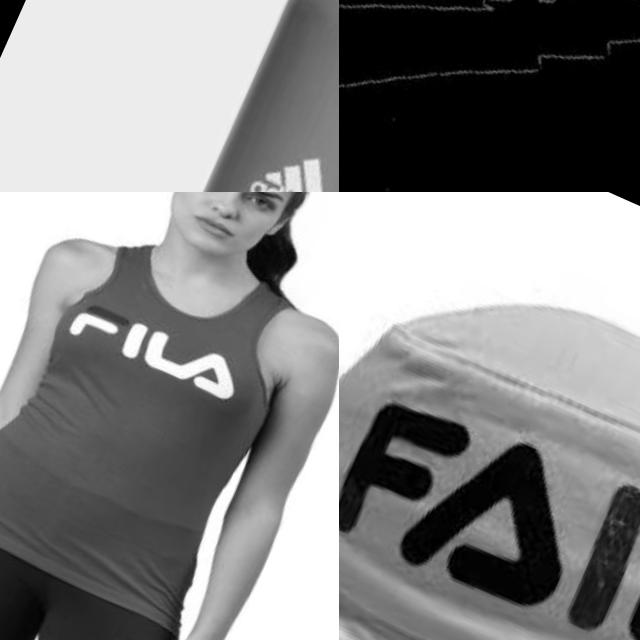ADIDAS_original: (224, 101, 339, 192)
FILA_fake: (339, 364, 640, 640)
FILA_original: (52, 282, 270, 432)
NIKE_fake: (339, 0, 640, 192)
